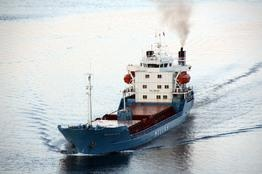Cargoship: (56, 28, 197, 158)
